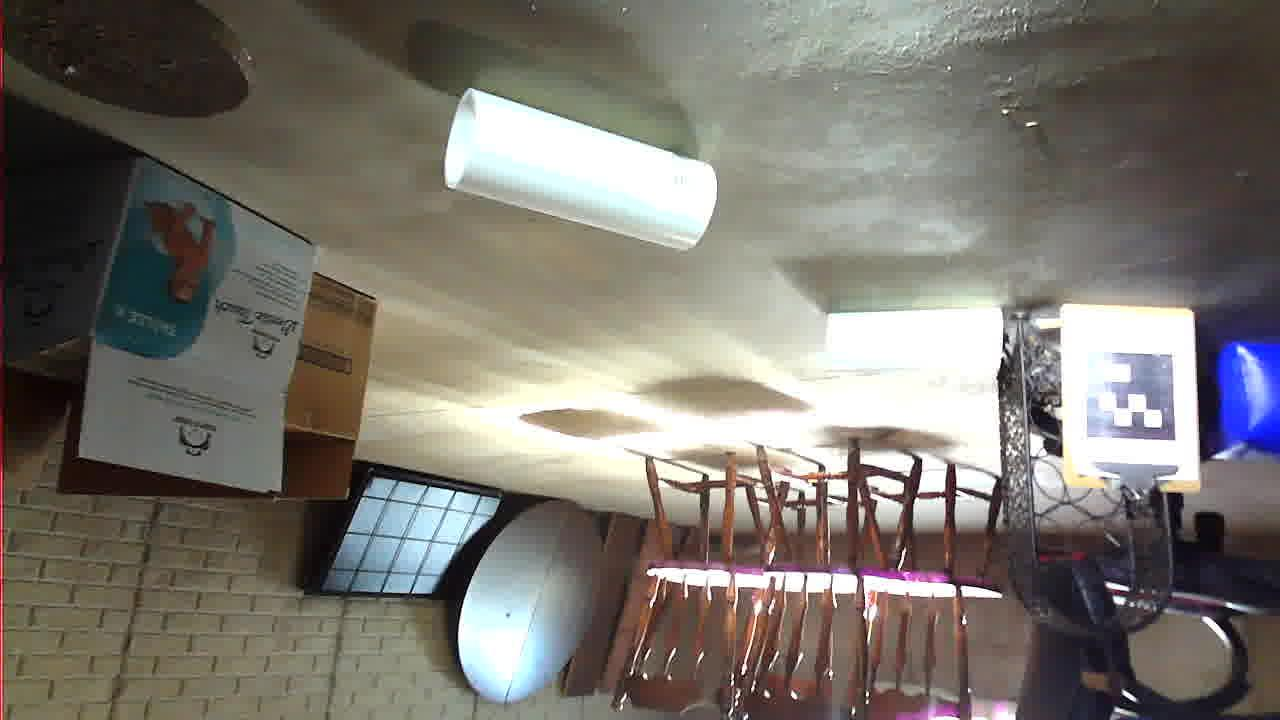coral: (563, 468, 837, 633), (277, 341, 456, 412)
